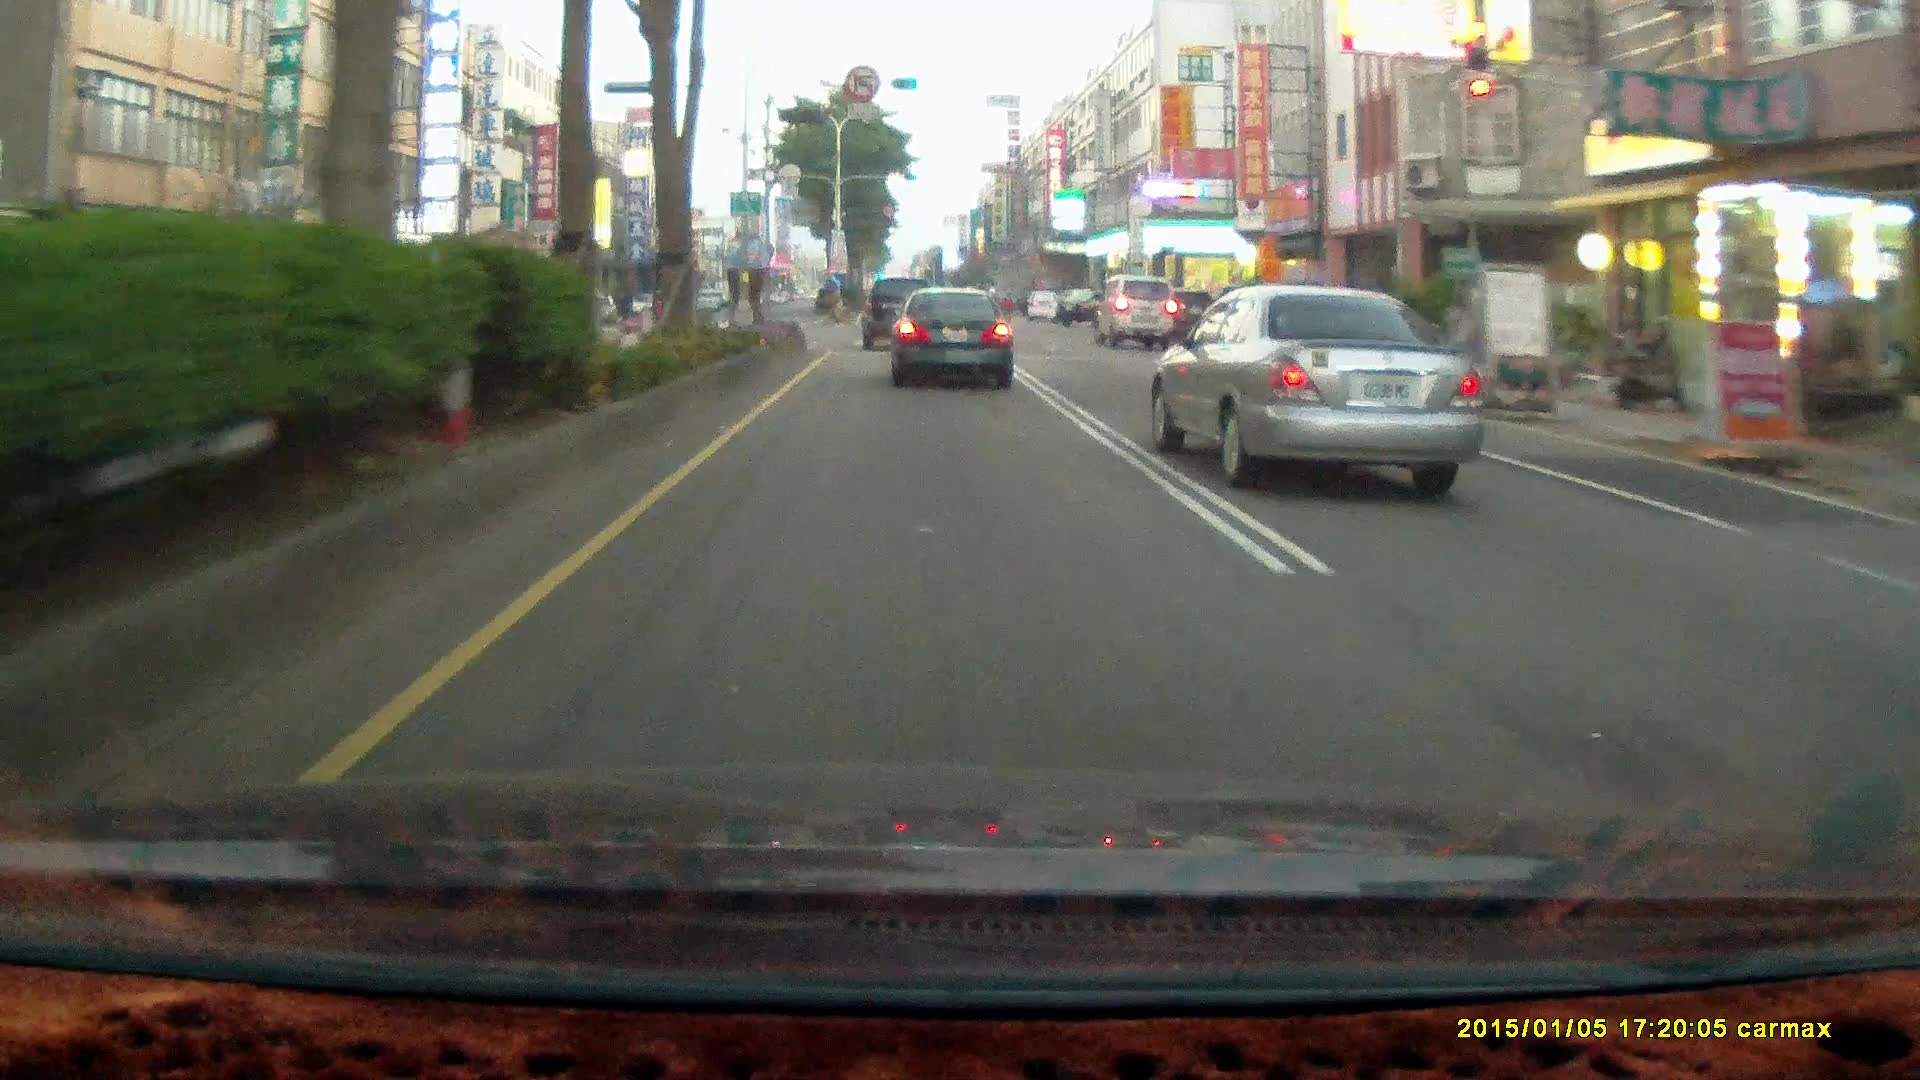vehicle: (1150, 285, 1486, 484), (889, 284, 1019, 392), (889, 282, 1011, 386), (1095, 273, 1178, 349), (1095, 273, 1178, 348), (861, 278, 940, 355), (861, 276, 938, 349), (1056, 285, 1118, 324), (1027, 287, 1062, 318)
